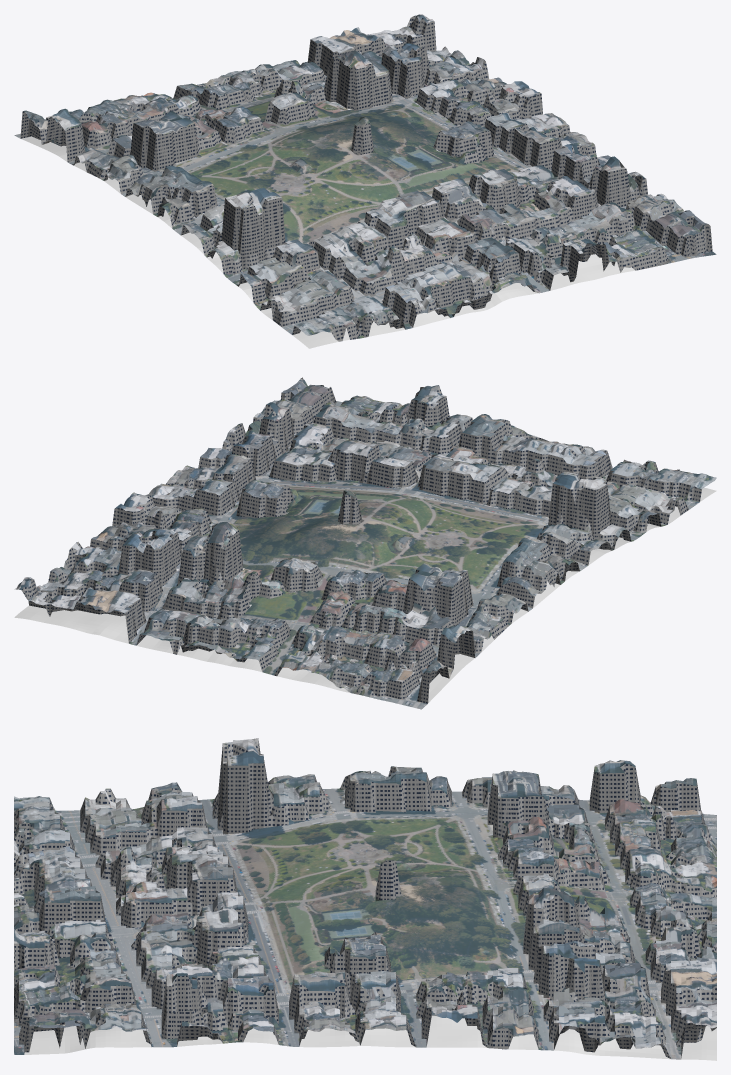
File: pacheights-world.glb
3 renders of one model, top to bottom at view 1: azimuth 30°, elevation 25°; view 2: azimuth 150°, elevation 25°; view 3: azimuth 270°, elevation 25°, orthographic. The views are drawn at different scales.
Visible parts, largest first — view 1: terrain, ground; view 2: terrain, ground; view 3: terrain, ground.
Part boxes in pixels (bbox=[...]): terrain: bbox=[14, 14, 716, 341]; ground: bbox=[21, 94, 634, 348]; terrain: bbox=[14, 377, 716, 709]; ground: bbox=[14, 487, 716, 703]; terrain: bbox=[14, 738, 716, 1059]; ground: bbox=[24, 1016, 716, 1060].
Bounding box in the file's own units: 440 × 87.9 × 552.
Materials: 2 (2 with a texture image).
